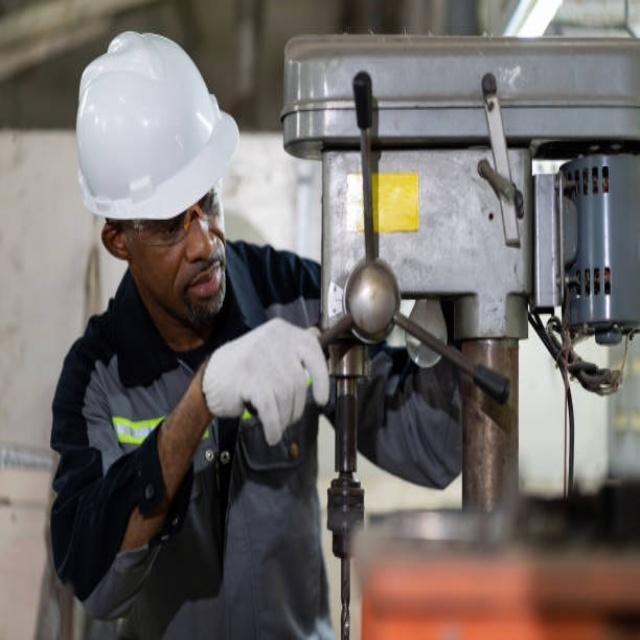Gafas: (114, 173, 224, 248)
Guantes: (200, 316, 331, 445)
Sin_mascara: (180, 253, 227, 314)
